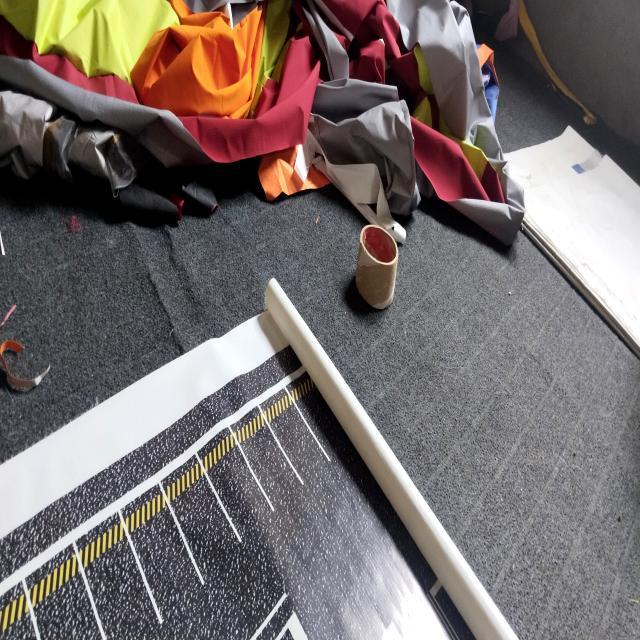others: (505, 126, 640, 355), (494, 0, 595, 123), (356, 224, 398, 308), (0, 340, 49, 390), (0, 306, 16, 326), (0, 232, 5, 256)
slots: (131, 505, 198, 620), (173, 475, 241, 587), (86, 542, 157, 636), (211, 446, 274, 532), (242, 424, 299, 512), (270, 404, 328, 477)
